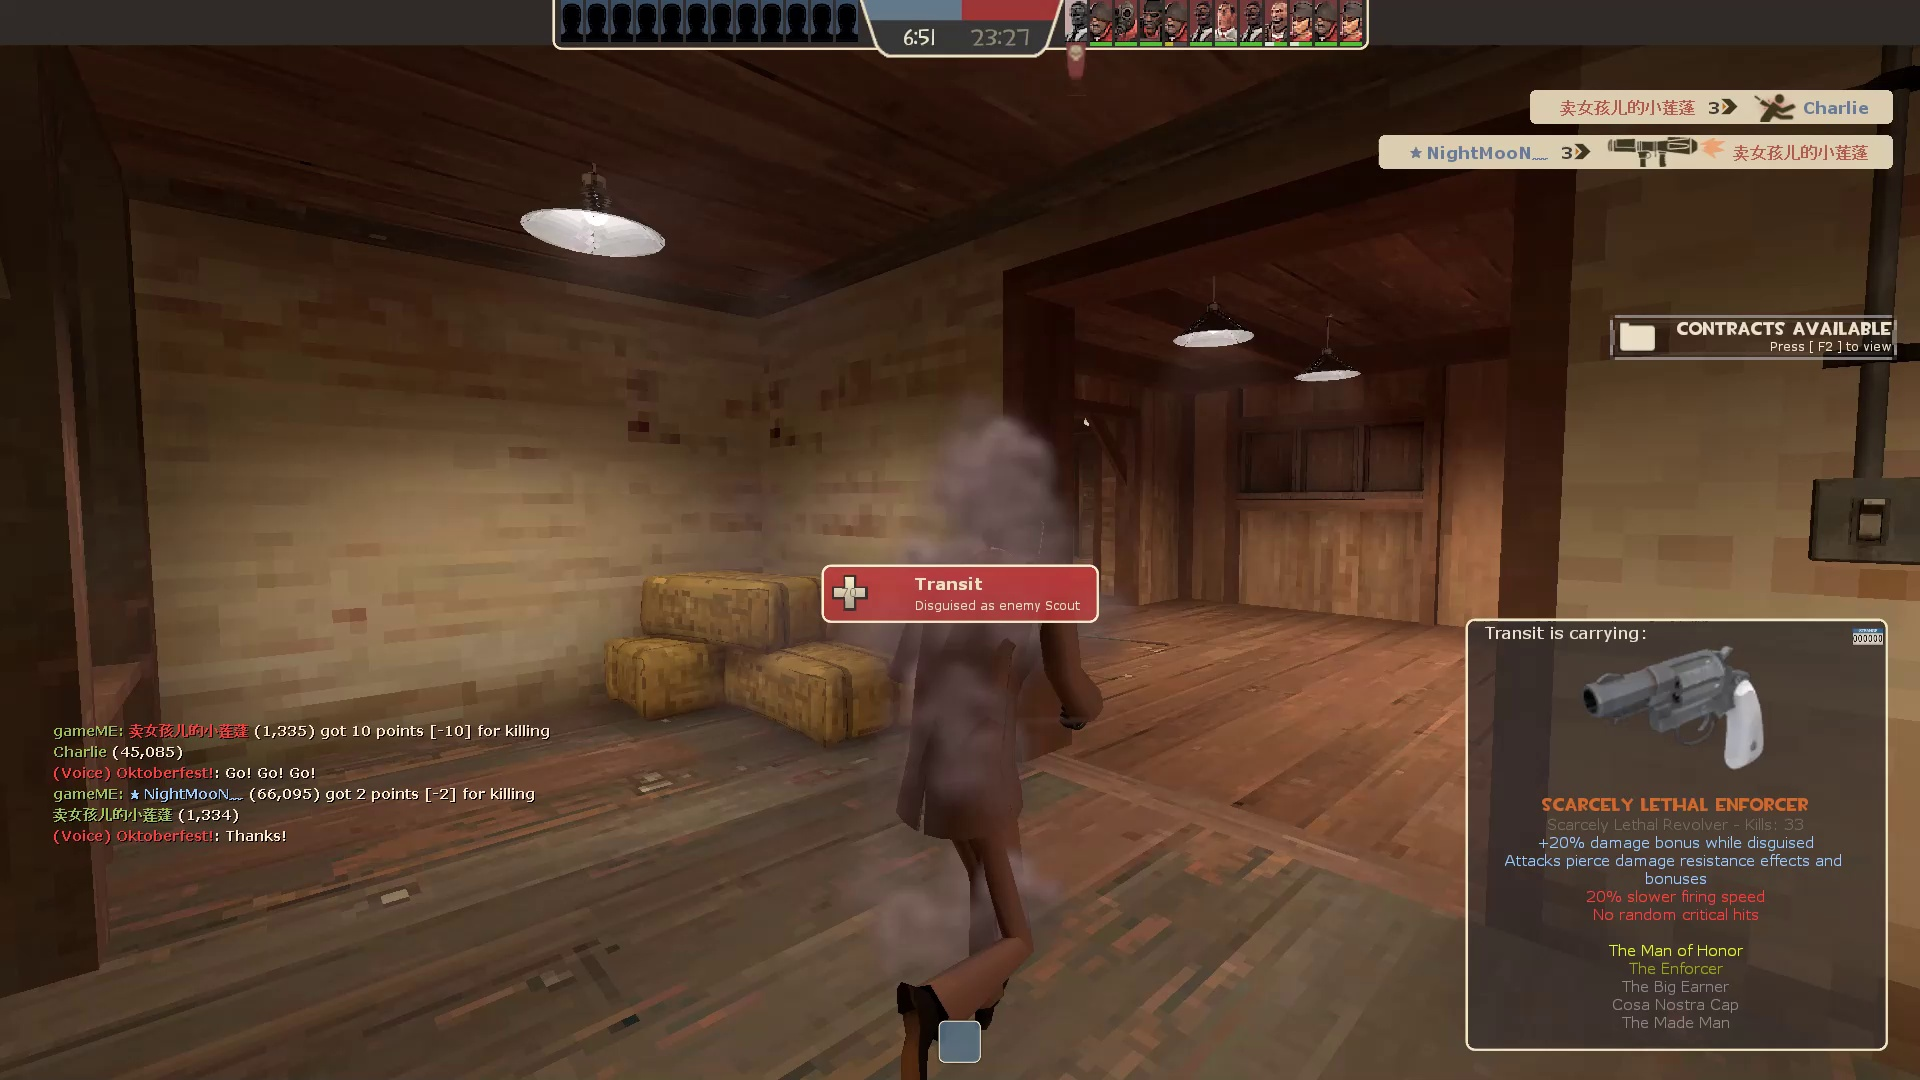red_spy: (819, 472, 1131, 1080)
